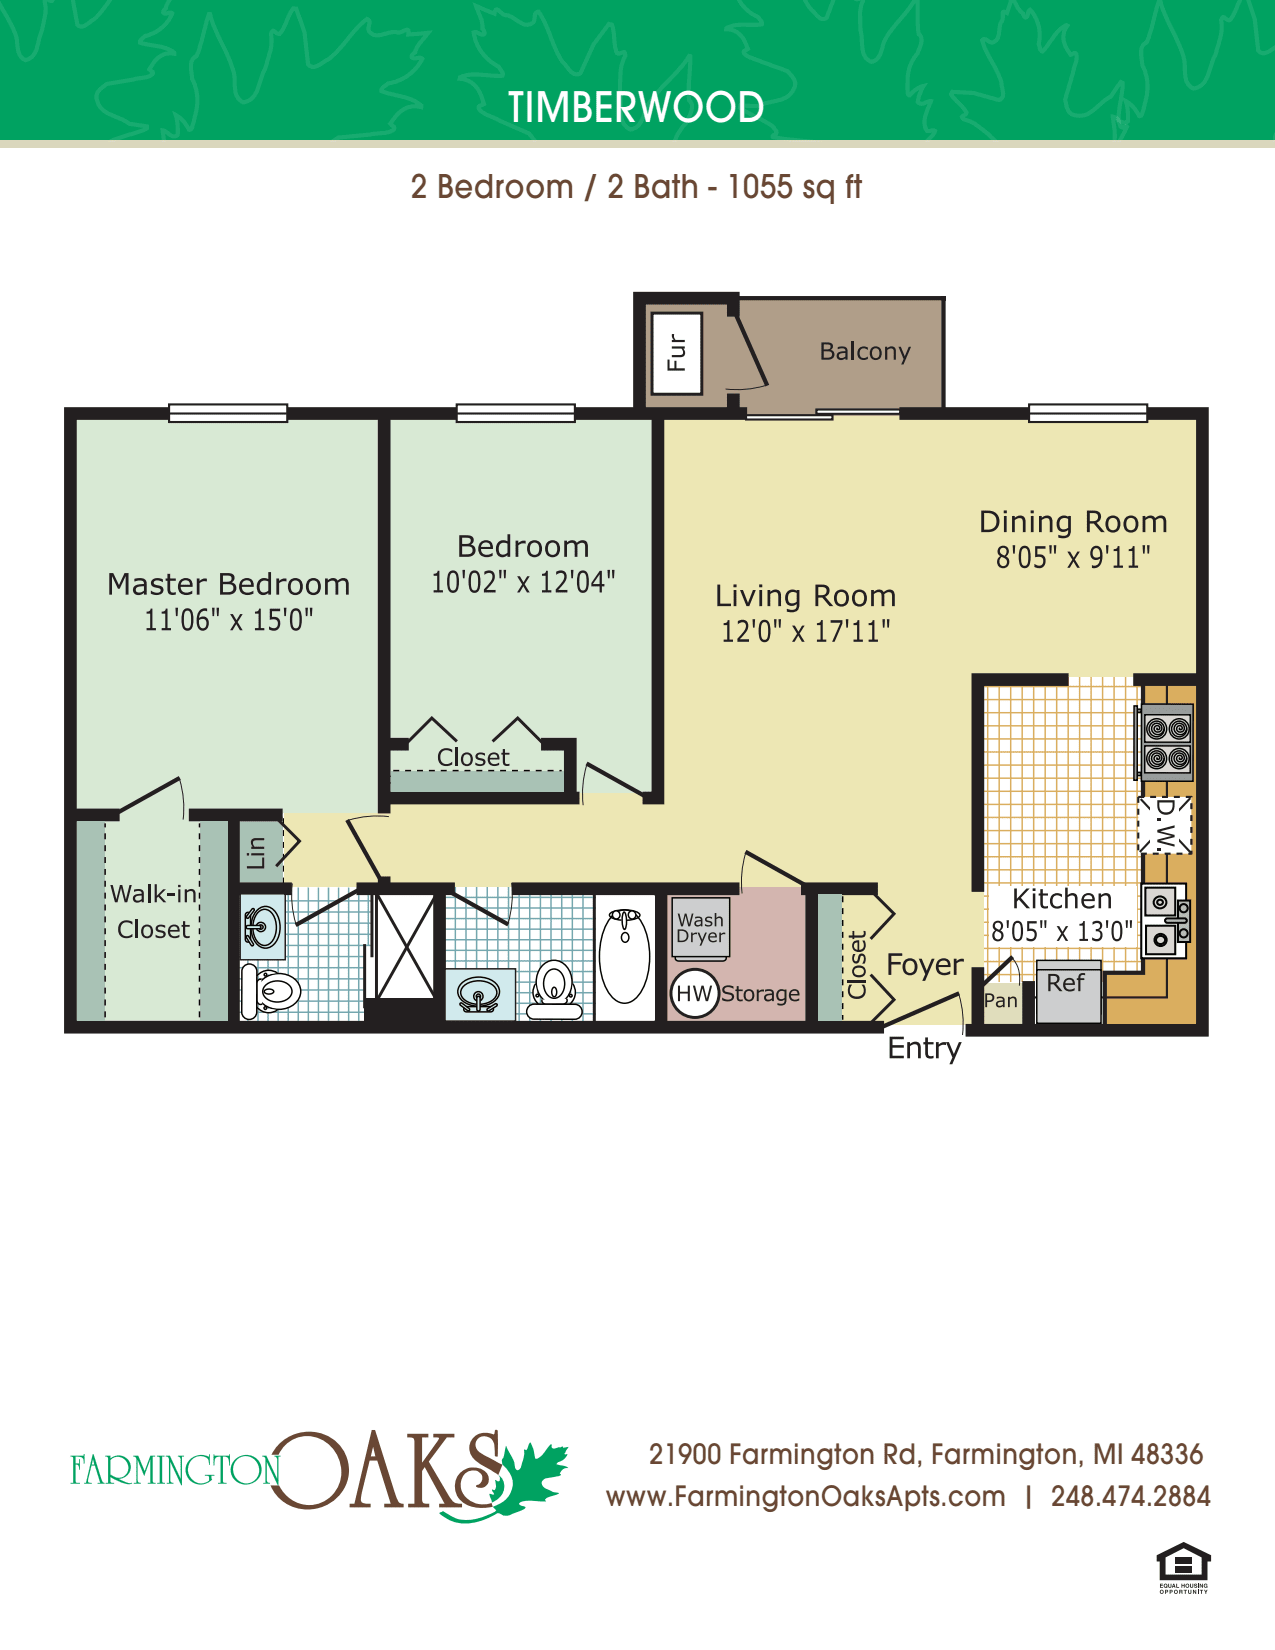door: (723, 320, 770, 392), (118, 763, 194, 808), (392, 700, 469, 745), (463, 700, 538, 745), (901, 988, 966, 1038), (342, 814, 387, 877), (579, 759, 642, 805), (734, 846, 809, 881), (288, 893, 352, 933), (449, 895, 514, 928), (867, 899, 915, 943), (858, 971, 900, 1021), (271, 824, 305, 868), (984, 954, 1021, 988)
